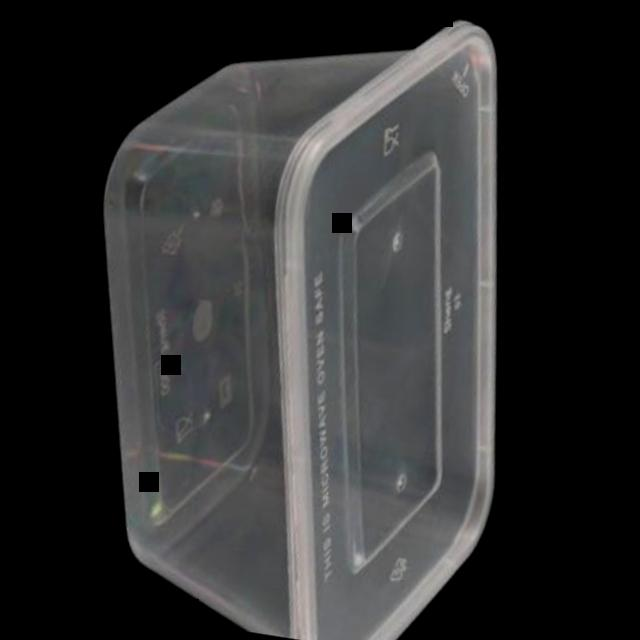plastic_box: (35, 0, 567, 640)
